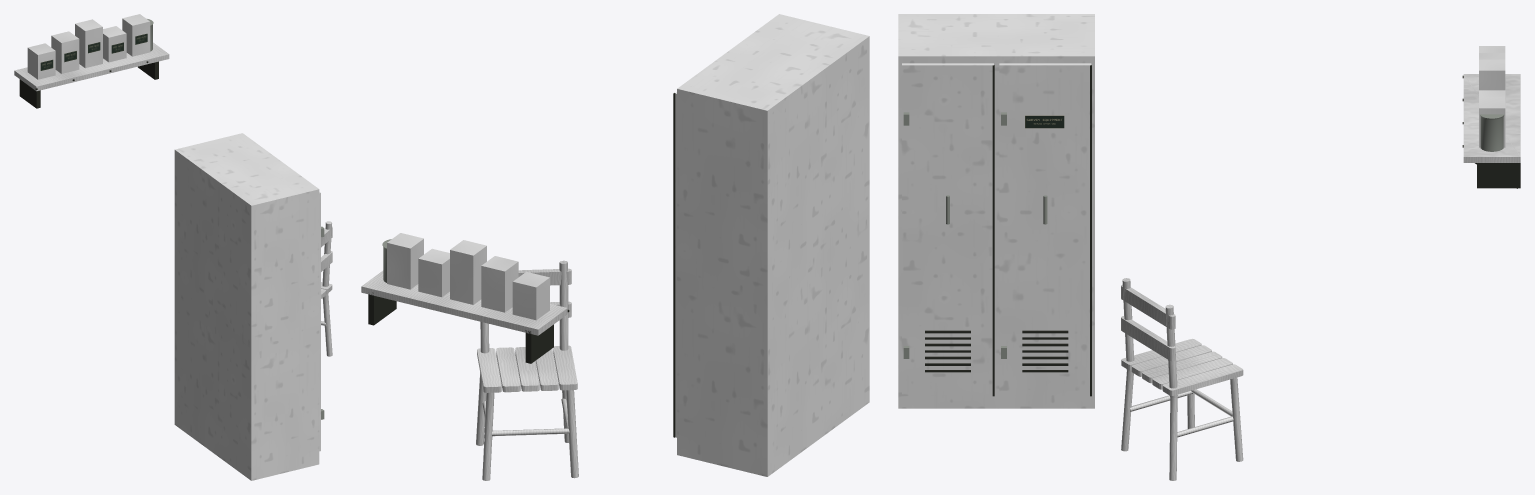
The model's file is SM_FieldStation_Hut_Props.glb.
3 views of the same model, side by side, from view 1: azimuth 30°, elevation 25°; view 2: azimuth 150°, elevation 25°; view 3: azimuth 270°, elevation 25° (orthographic). The views are drawn at different scales.
Parts seen in each view (by area): view 1: SM_FieldStation_Hut_Props; view 2: SM_FieldStation_Hut_Props; view 3: SM_FieldStation_Hut_Props.
Boxes of the visible parts, x1,y1,x2,y2 form: SM_FieldStation_Hut_Props: [14, 14, 332, 480]; SM_FieldStation_Hut_Props: [361, 14, 869, 480]; SM_FieldStation_Hut_Props: [898, 14, 1520, 480].
Bounding box in the file's own units: 1.27 × 1.78 × 2.85.
9 materials, 6 textured.
